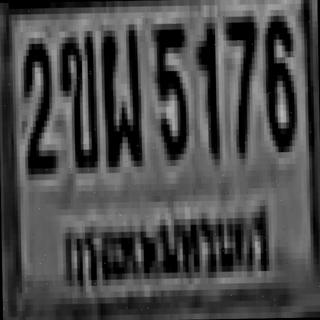A02: (58, 31, 96, 168)
A28: (99, 24, 140, 161)
N01: (195, 17, 217, 154)
N02: (20, 38, 53, 168)
N05: (150, 17, 187, 154)
N06: (262, 10, 295, 146)
N07: (223, 10, 256, 153)
P04: (54, 189, 276, 298)
